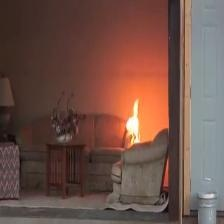fire: (113, 94, 155, 146)
